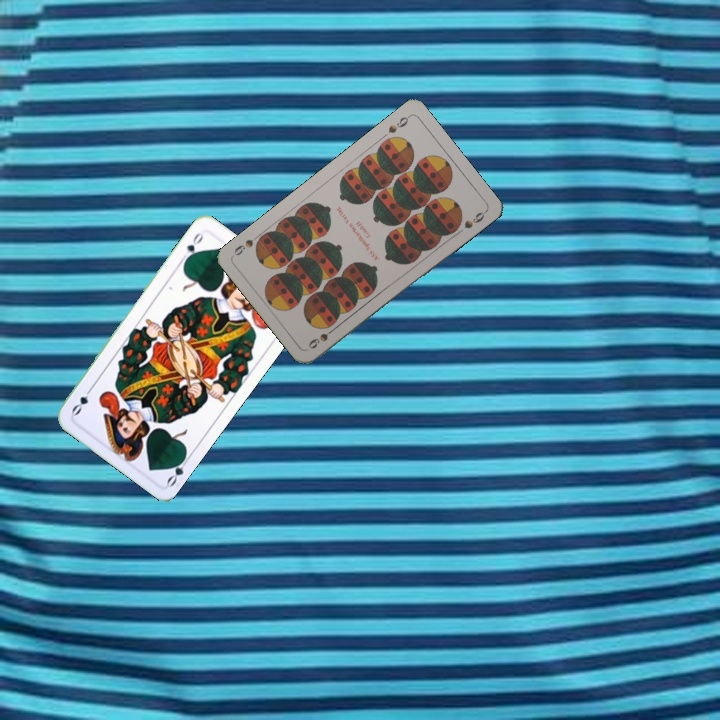GO: (163, 451, 193, 489), (180, 229, 207, 265)
S9: (304, 322, 339, 352), (384, 111, 413, 136)
